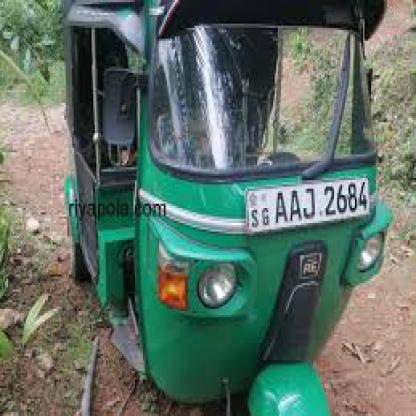tuk: (60, 0, 394, 414)
